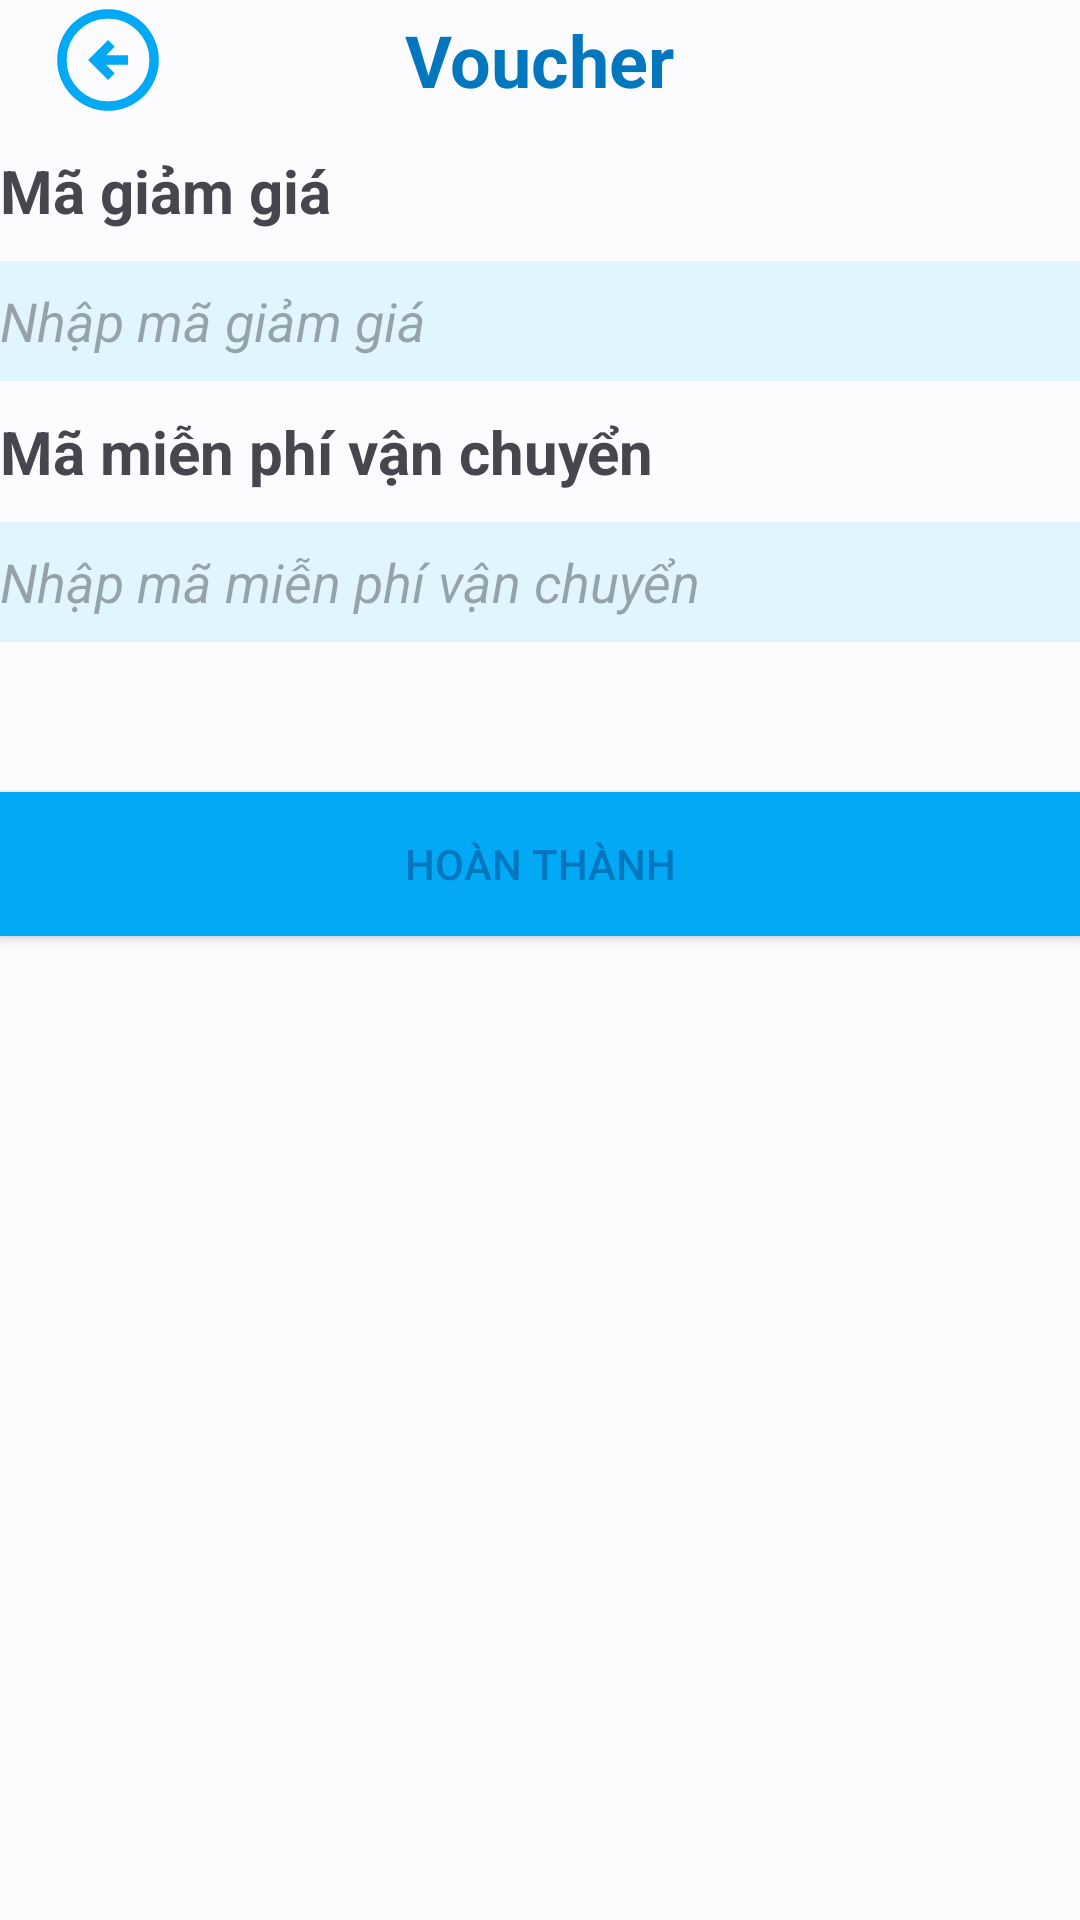

Screen size 1080 x 1920. Icon name, then its center in pixels as (x,y):
arrow circle left: (108,60)
